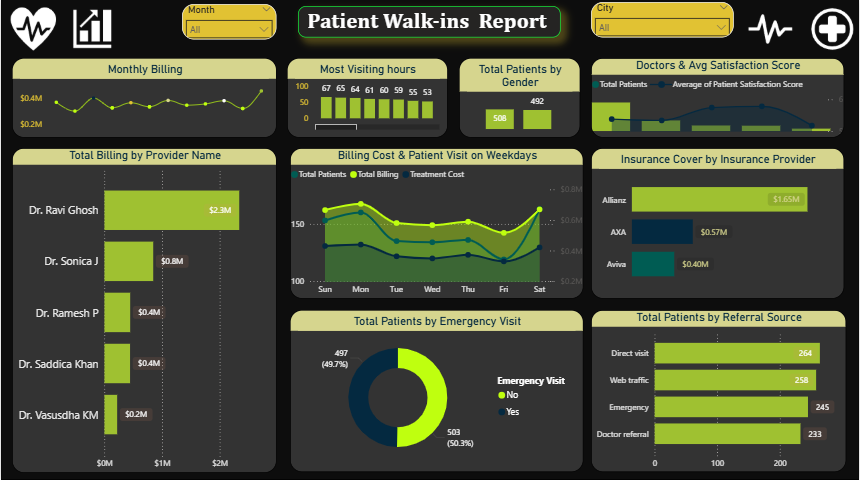

Layout of this report page (visuals, bound fields, positions):
{"tool":"powerbi","page":{"name":"Billing & others ","canvas":[1280,720],"ordinal":1},"visuals":[{"type":"barChart","fields":{"Category":["Walkins.Referral Source"],"Y":["_measures.Total Patients"]},"box":[880.2,464.3,380.6,242.4],"z":0},{"type":"lineChart","title":"Billing Cost & Patient Visit  on  Weekdays","fields":{"Category":["Date Table.Weekday"],"Y":["_measures.Total Patients"],"Y2":["_measures.Total Billing","_measures.Treatment Cost"]},"box":[432,221.9,437.9,224.8],"z":1000},{"type":"clusteredBarChart","fields":{"Y":["_measures.Total Billing"],"Category":["providers.Provider Name"]},"box":[16.2,221.9,395.3,484.9],"z":2000},{"type":"columnChart","fields":{"Y":["_measures.Total Patients"],"Category":["patients.Gender"]},"box":[683.3,88.2,180.7,119],"z":3000},{"type":"donutChart","fields":{"Y":["_measures.Total Patients"],"Category":["Walkins.Emergency Visit"]},"box":[432,464.3,437.9,242.4],"z":4000},{"type":"textbox","box":[443.8,10.3,392.3,47],"z":5000},{"type":"slicer","fields":{"Values":["cities.City"]},"box":[880.2,4.4,213.1,52.9],"z":6000},{"type":"slicer","fields":{"Values":["Date Table.Month"]},"box":[270.4,7.3,141.1,52.9],"z":7000},{"type":"lineChart","title":"Monthly Billing ","fields":{"Y":["_measures.Total Billing"],"Category":["Date Table.Month"]},"box":[16.2,88.2,395.3,119],"z":8000},{"type":"columnChart","title":"Most Visiting hours","fields":{"Category":["Walkins.Visit Hour"],"Y":["_measures.Total Patients"]},"box":[427.6,88.2,239.5,119],"z":9000},{"type":"barChart","fields":{"Category":["insurance.Insurance Provider"],"Y":["_measures.Insurance Cover"]},"box":[880.2,221.9,377.6,224.8],"z":10000},{"type":"lineClusteredColumnComboChart","title":"Doctors & Avg Satisfaction Score","fields":{"Category":["providers.Provider Name"],"Y":["_measures.Total Patients"],"Y2":["Walkins.Patient Satisfaction Score"]},"box":[880.2,88.2,377.6,119],"z":11000}]}

Visuals, with their boxes in screenshot pixels (x1, y1, x2, y2), scaled from the page's 1280x720 canvas onto the 860x480 screenshot:
barChart - Walkins.Referral Source x _measures.Total Patients: rect(591, 310, 847, 471)
"Billing Cost & Patient Visit  on  Weekdays" lineChart: rect(290, 148, 584, 298)
clusteredBarChart - _measures.Total Billing x providers.Provider Name: rect(11, 148, 276, 471)
columnChart - _measures.Total Patients x patients.Gender: rect(459, 59, 580, 138)
donutChart - _measures.Total Patients x Walkins.Emergency Visit: rect(290, 310, 584, 471)
textbox: rect(298, 7, 562, 38)
slicer - cities.City: rect(591, 3, 735, 38)
slicer - Date Table.Month: rect(182, 5, 276, 40)
"Monthly Billing " lineChart: rect(11, 59, 276, 138)
"Most Visiting hours" columnChart: rect(287, 59, 448, 138)
barChart - insurance.Insurance Provider x _measures.Insurance Cover: rect(591, 148, 845, 298)
"Doctors & Avg Satisfaction Score" lineClusteredColumnComboChart: rect(591, 59, 845, 138)
